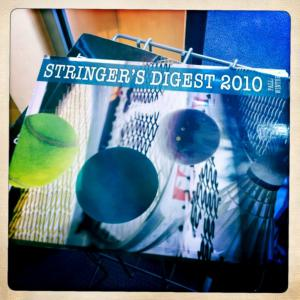TennisBall: (10, 110, 84, 193)
